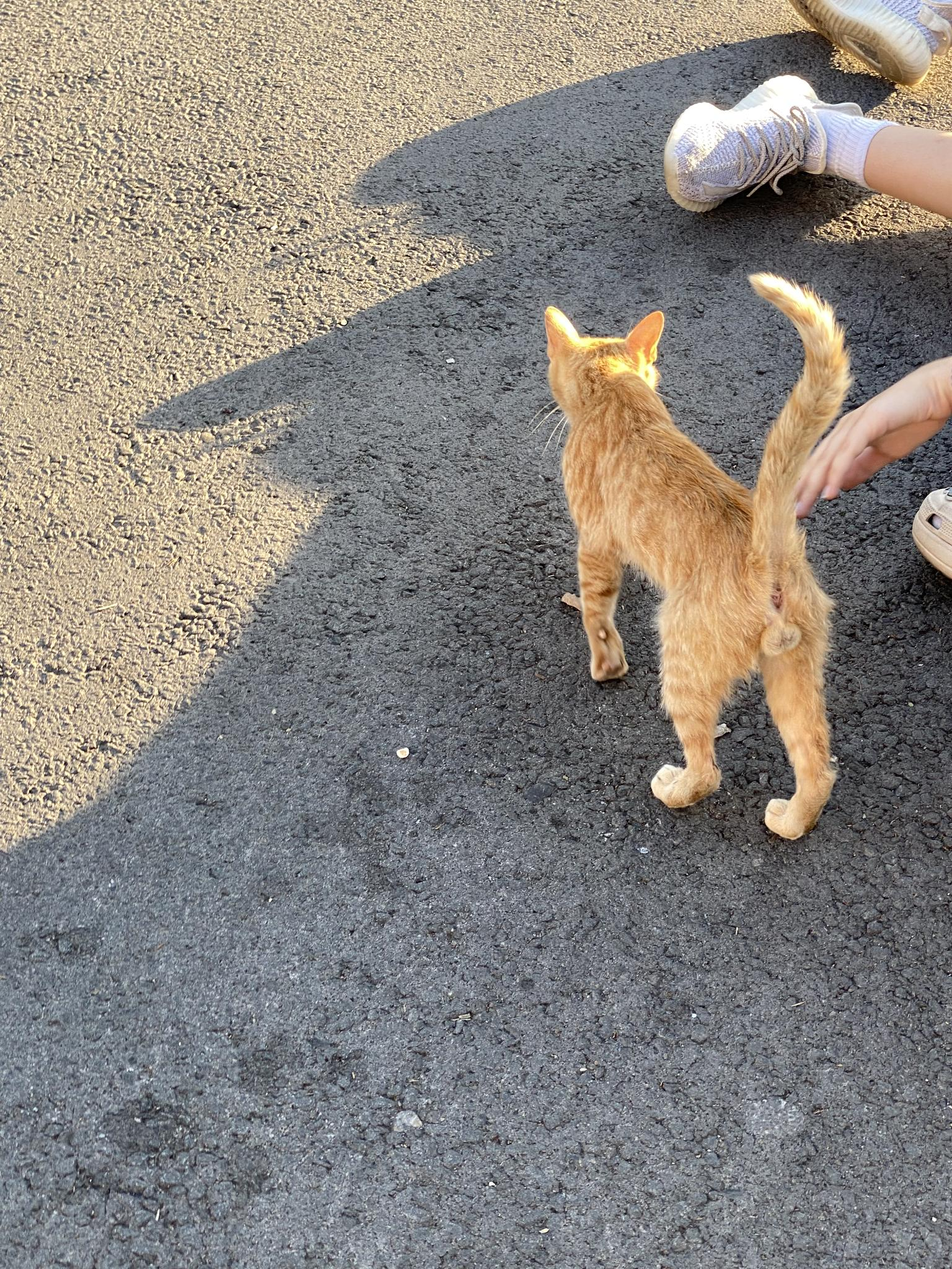macka: (544, 273, 848, 845)
